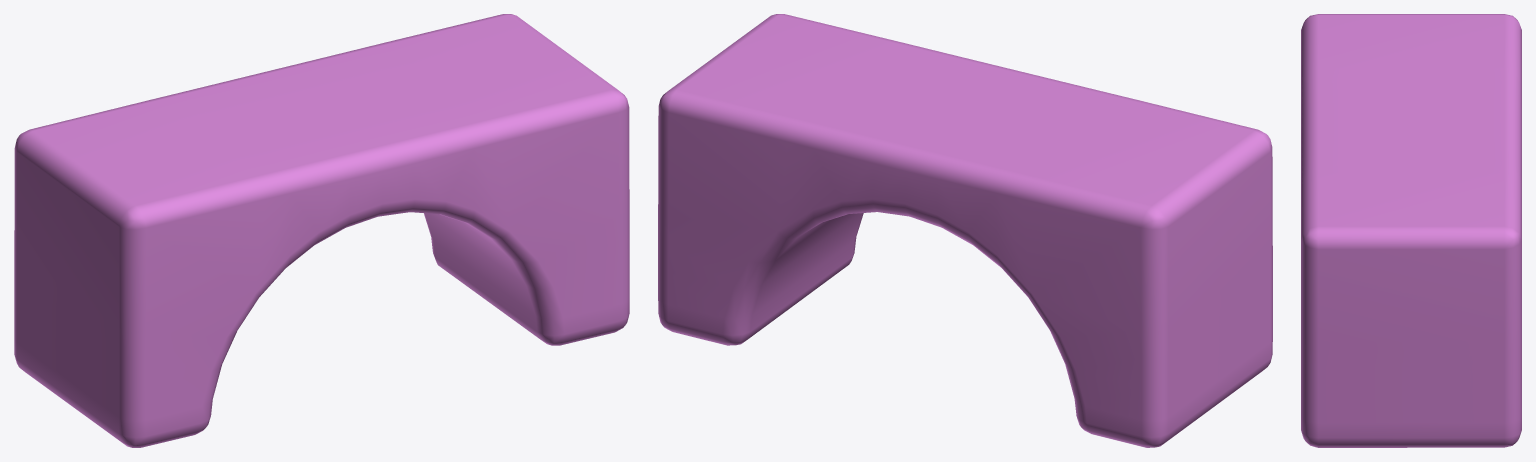
The model's file is Bridge.fbx.
3 renders of one model, left to right at view 1: azimuth 30°, elevation 25°; view 2: azimuth 150°, elevation 25°; view 3: azimuth 270°, elevation 25°, orthographic. The views are drawn at different scales.
Visible parts, largest first — view 1: Circle.006; view 2: Circle.006; view 3: Circle.006.
Boxes of the visible parts, x1,y1,x2,y2 form: Circle.006: [14, 14, 629, 447]; Circle.006: [658, 14, 1272, 447]; Circle.006: [1301, 14, 1521, 447].
Size of the model in its own units: 5.77 by 2.62 by 2.39.
